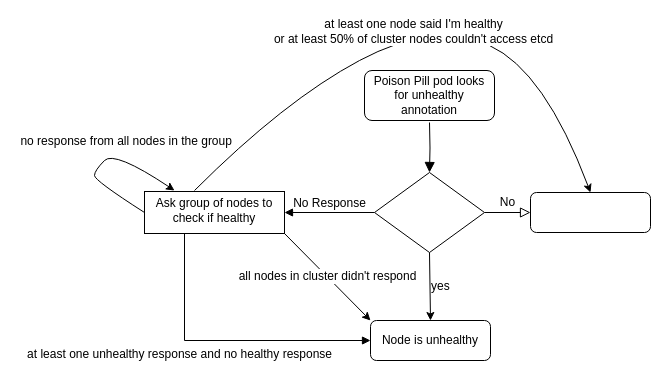
Image size: 668x379. Some labels were removed from this diagram. The shapes that lost their labels are listed below. From the top down, each one's box as (x1, y1, x2, y2) in pixels, then its label:
(374, 172, 484, 252): is unhealhy in etcd?
(530, 192, 650, 232): Node is healthy
